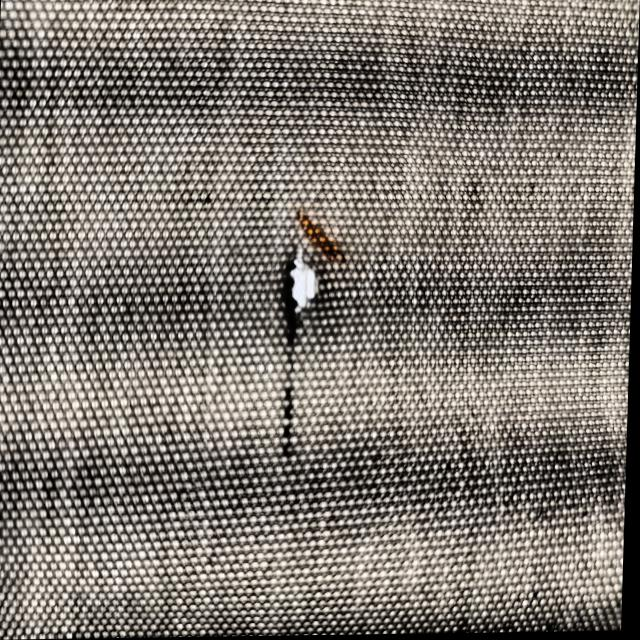Hole: (290, 251, 326, 316)
Stitch: (275, 247, 303, 452)
